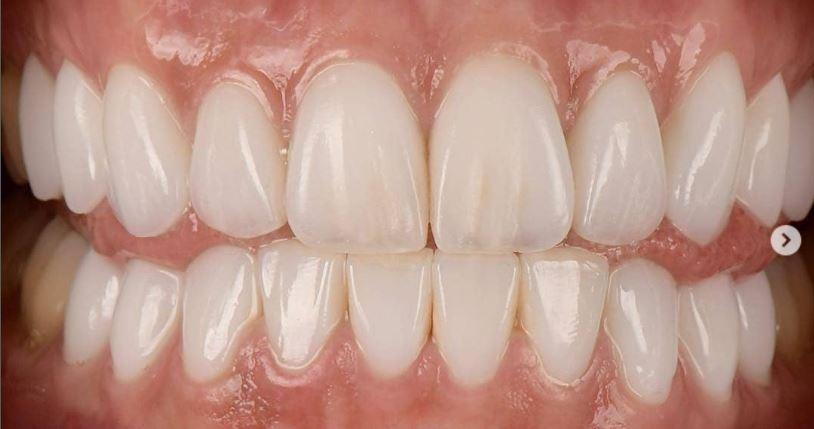1st Molar: (24, 224, 83, 339), (769, 258, 813, 366), (2, 68, 25, 181)
1st Premolar: (113, 259, 182, 379), (680, 270, 738, 405), (55, 57, 104, 215), (746, 70, 792, 228)
2nd Molar: (2, 196, 42, 291)
2nd Premolar: (63, 251, 119, 365), (22, 49, 57, 206), (735, 274, 774, 389), (790, 79, 814, 224)
Canine: (671, 40, 747, 249), (102, 61, 188, 241), (183, 245, 259, 386), (610, 259, 679, 406)
Central Incisor: (430, 39, 574, 258), (284, 56, 431, 256), (430, 251, 524, 396), (343, 251, 431, 388)
Lateral Incisor: (574, 61, 669, 245), (189, 76, 283, 238), (525, 250, 608, 395), (259, 241, 344, 378)
